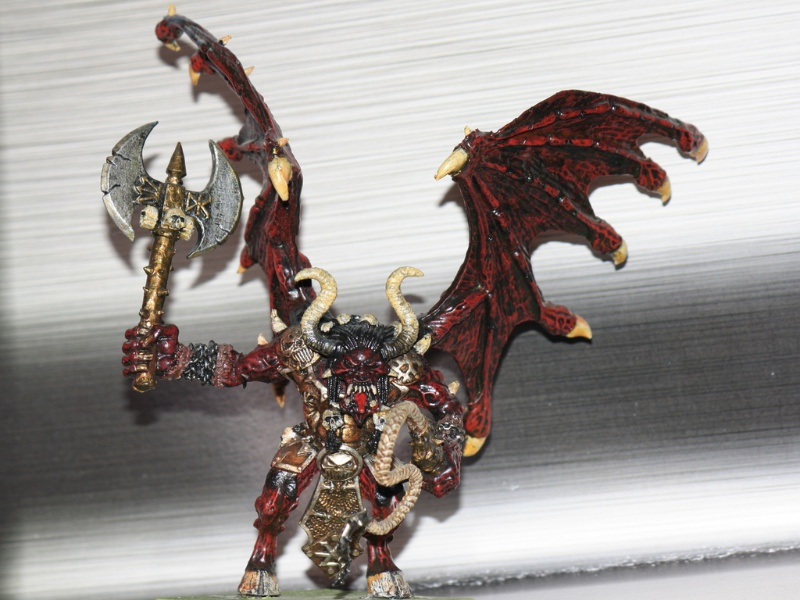axe: (90, 118, 246, 290)
